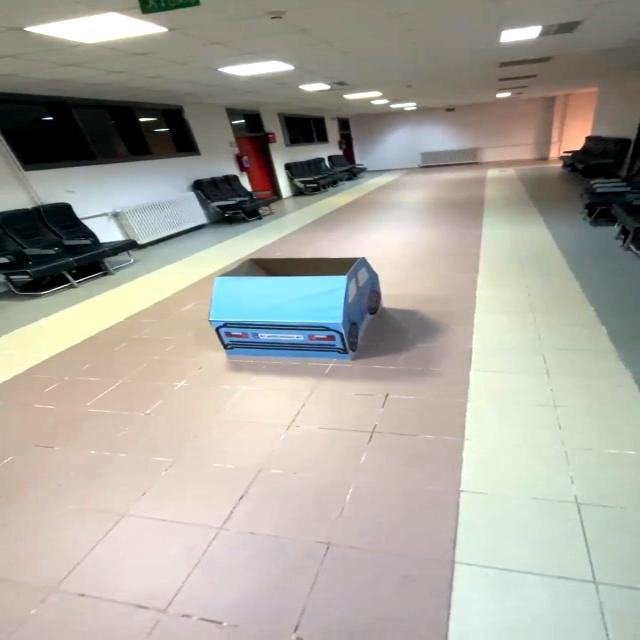blue_car: (180, 248, 403, 388)
